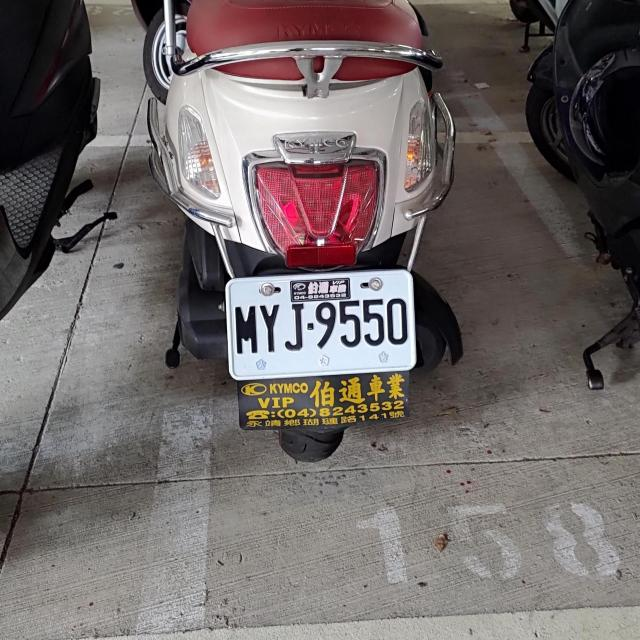W: (224, 270, 416, 381)
